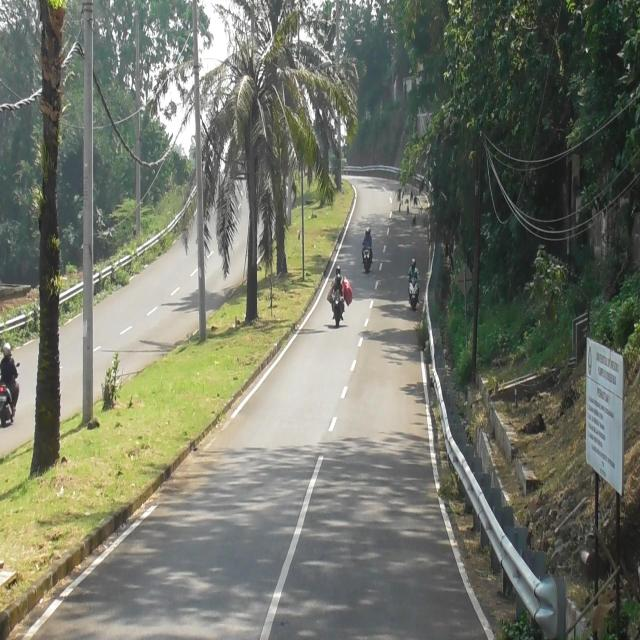motorcycle: (0, 380, 17, 428), (408, 276, 420, 308), (333, 290, 343, 326), (362, 244, 373, 272)
person: (1, 345, 19, 396), (407, 257, 420, 280), (332, 276, 344, 298), (332, 266, 344, 283), (363, 228, 371, 246)
rider_region: (1, 342, 20, 426), (330, 267, 346, 326), (406, 257, 422, 310), (362, 224, 373, 273)
